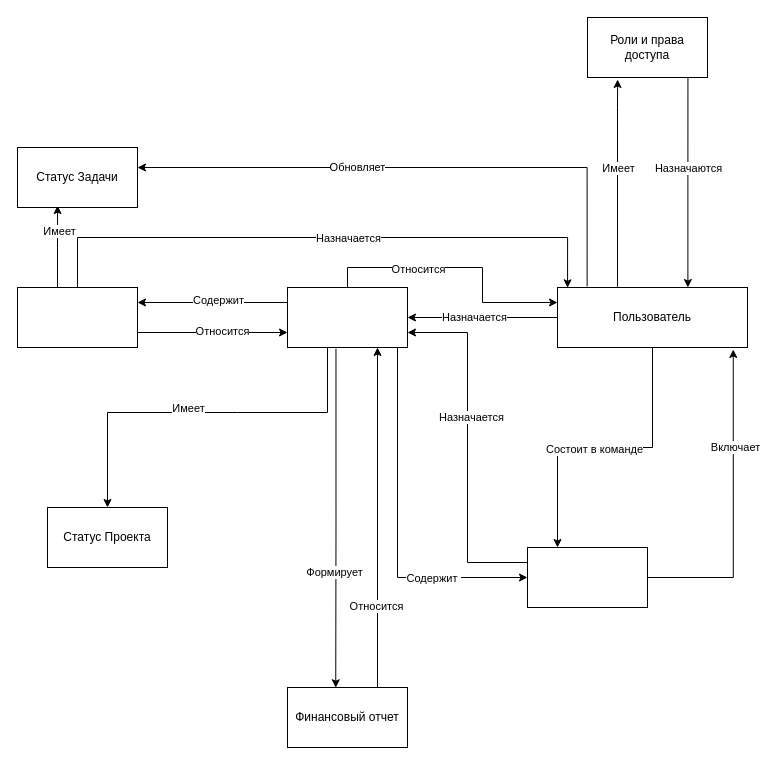
Some shapes in this 778 by 765 pixel diagram are drawn without their labels. The shapes that lost their labels are listed below. From the top down, each one's box as (x1, y1, x2, y2) in pixels, then its label:
(16, 286, 138, 348): Задача
(286, 286, 408, 348): Проект
(526, 546, 648, 608): Команда
